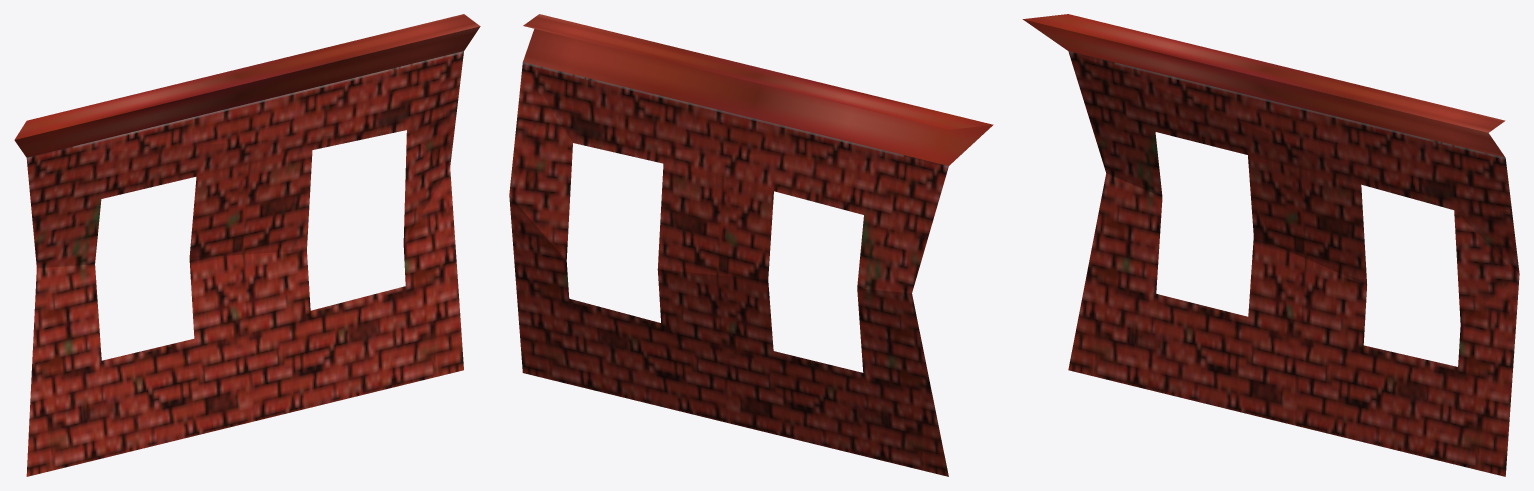
3 views of the same model, side by side, from view 1: azimuth 30°, elevation 25°; view 2: azimuth 150°, elevation 25°; view 3: azimuth 330°, elevation 25° (orthographic). The views are drawn at different scales.
Visible parts, largest first — view 1: polySurfaceShape1183, polySurfaceShape1185; view 2: polySurfaceShape1183, polySurfaceShape1185; view 3: polySurfaceShape1183, polySurfaceShape1185.
Boxes of the visible parts, x1,y1,x2,y2 form: polySurfaceShape1183: [26, 51, 463, 476]; polySurfaceShape1185: [14, 14, 480, 157]; polySurfaceShape1183: [509, 62, 948, 476]; polySurfaceShape1185: [523, 14, 993, 165]; polySurfaceShape1183: [1068, 51, 1519, 476]; polySurfaceShape1185: [1022, 14, 1505, 157].
Size of the model in its own units: 0.5333 by 0.3891 by 0.0607.
Materials: 2 (2 with a texture image).
